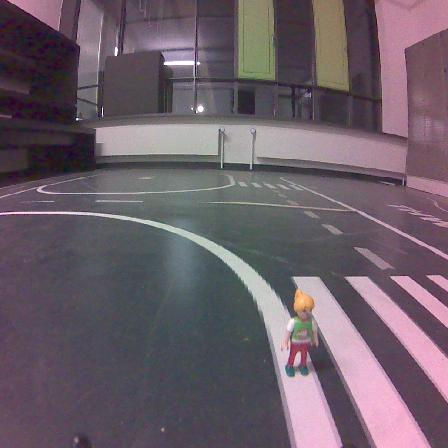CHILD: (281, 289, 318, 376)
